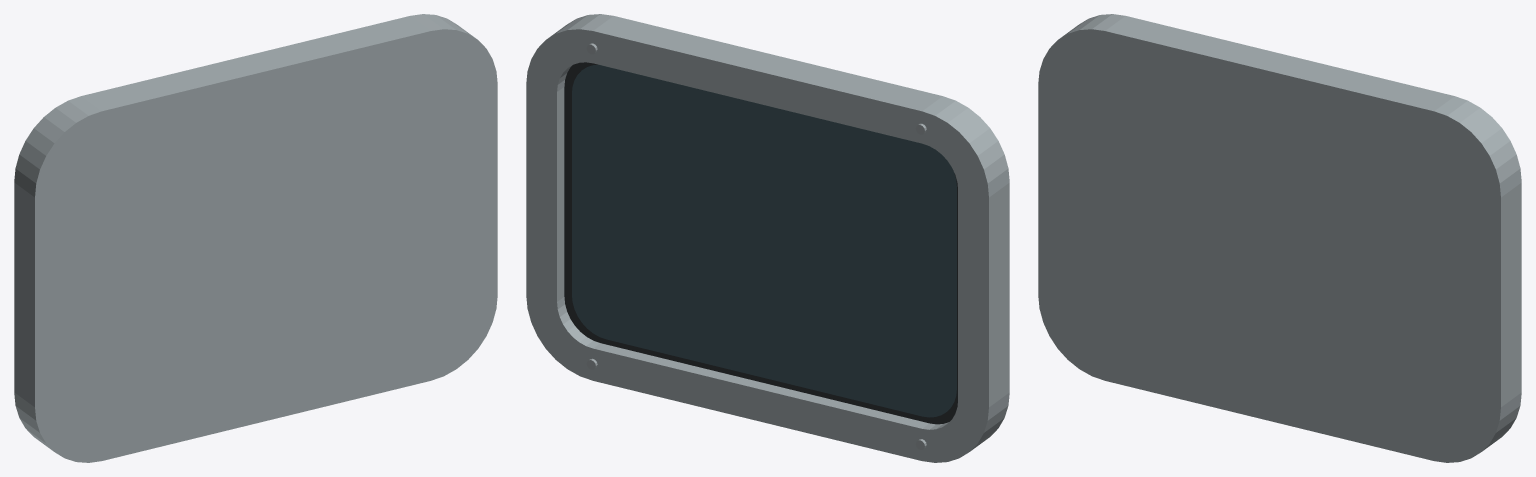
3 views of the same model, side by side, from view 1: azimuth 30°, elevation 25°; view 2: azimuth 150°, elevation 25°; view 3: azimuth 330°, elevation 25° (orthographic).
Parts seen in each view (by area): view 1: component.root.mesh; view 2: component.root.mesh; view 3: component.root.mesh.
Part boxes in pixels (bbox=[...]): component.root.mesh: bbox=[14, 14, 497, 462]; component.root.mesh: bbox=[526, 14, 1009, 462]; component.root.mesh: bbox=[1038, 14, 1521, 462].
Bounding box in the file's own units: 0.9 × 0.65 × 0.076.
